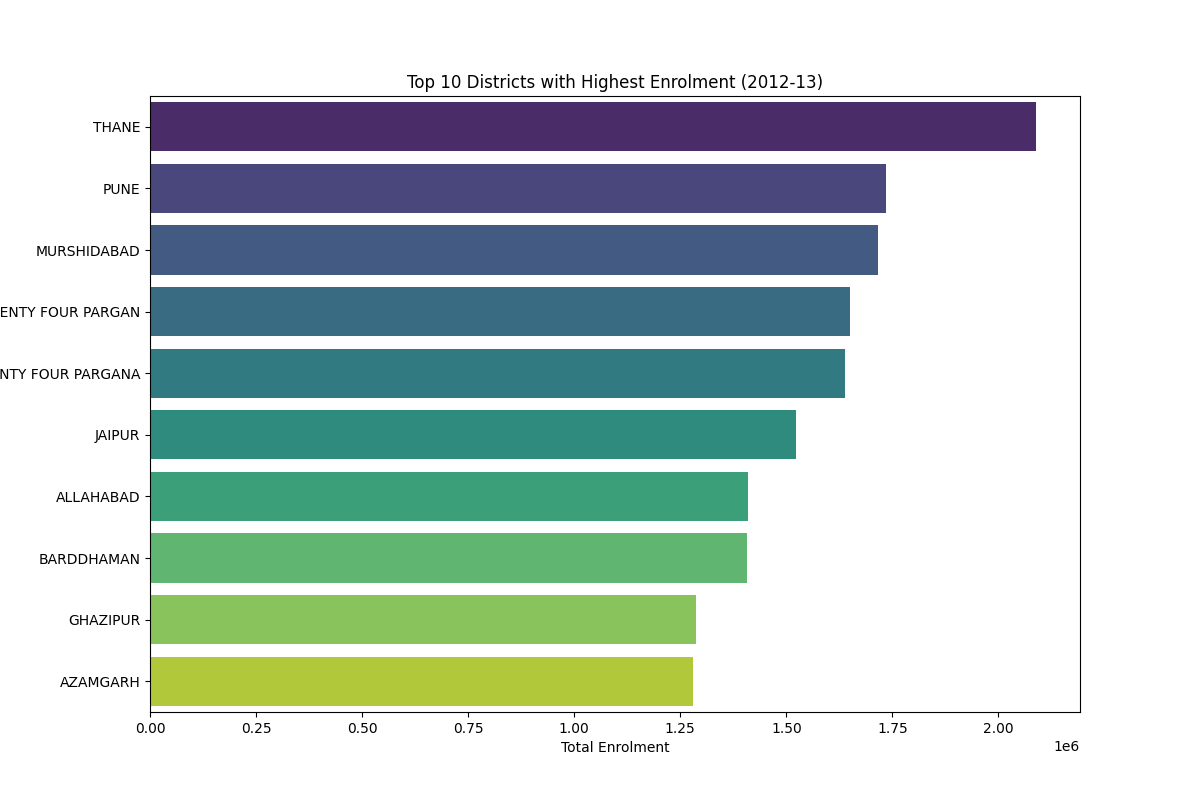

Layout of this report page (visuals, bound fields, positions):
{"tool":"tableau","page":{"name":"Dashboard 1","canvas":[1000,1000],"units":"permille","ordinal":0},"visuals":[{"type":"worksheet","title":"Sheet 2","mark":"Bar","rows":["count"],"cols":["date","date"],"box":[1.8,480.7,991,499.4]}]}

Visuals, with their boxes on the dashboard's canvas, which has no fixed pixel size, in thousandths of its width and height (x1, y1, x2, y2). These are canvas units, not pixel positions in the 1200x800 screenshot, which may show the page scaled, cropped or inside an application window:
"Sheet 2" worksheet (Bar marks): left=2, top=481, right=993, bottom=980
